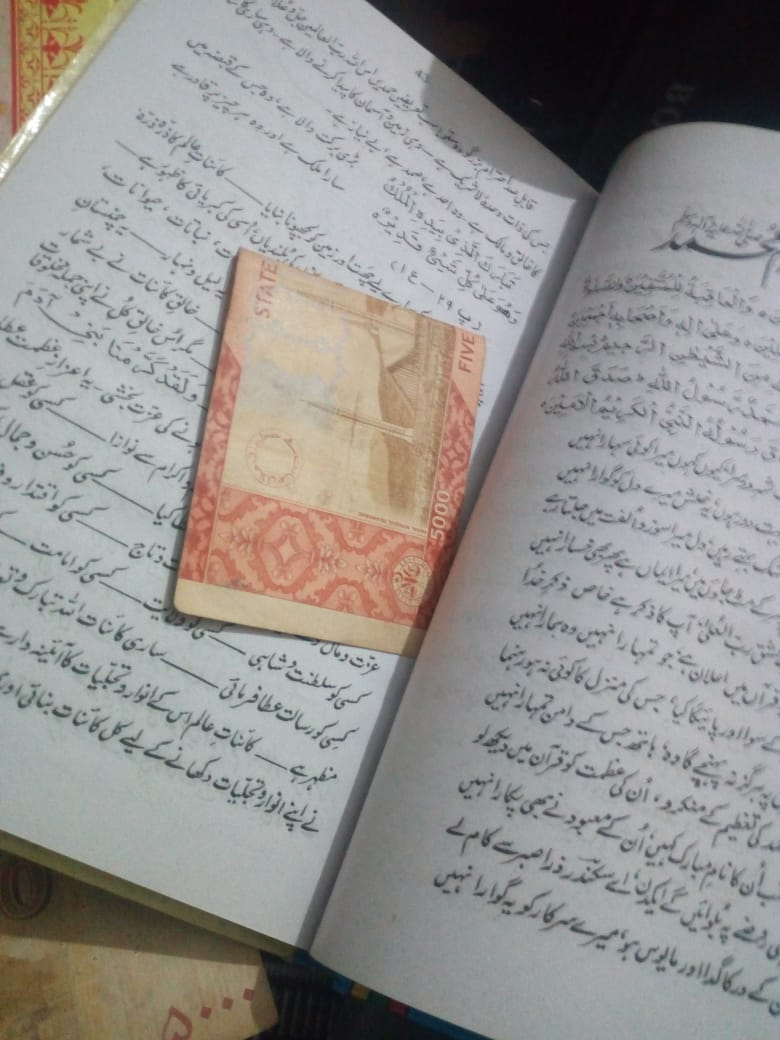5000 rupee: (164, 232, 479, 715)
